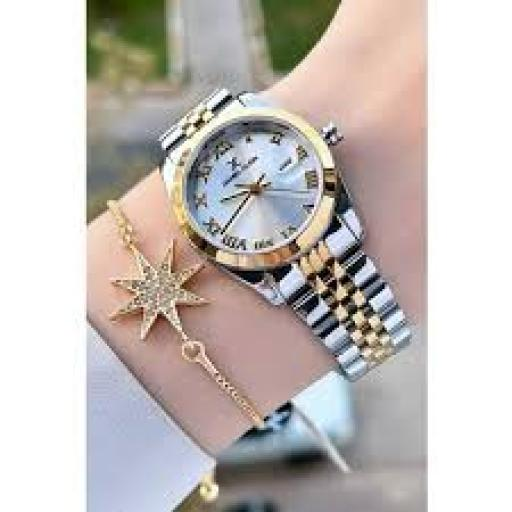KolSaati: (143, 76, 427, 384)
